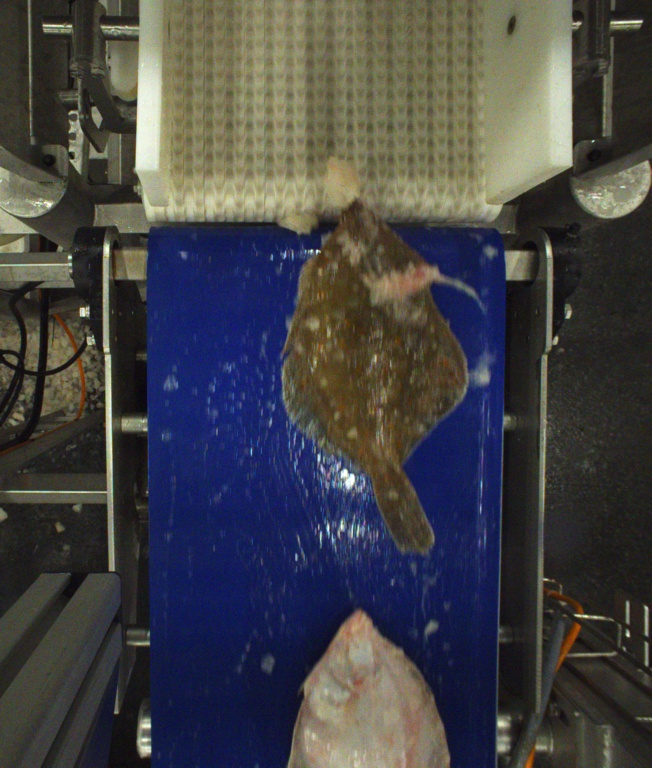PLE: (278, 198, 472, 557)
